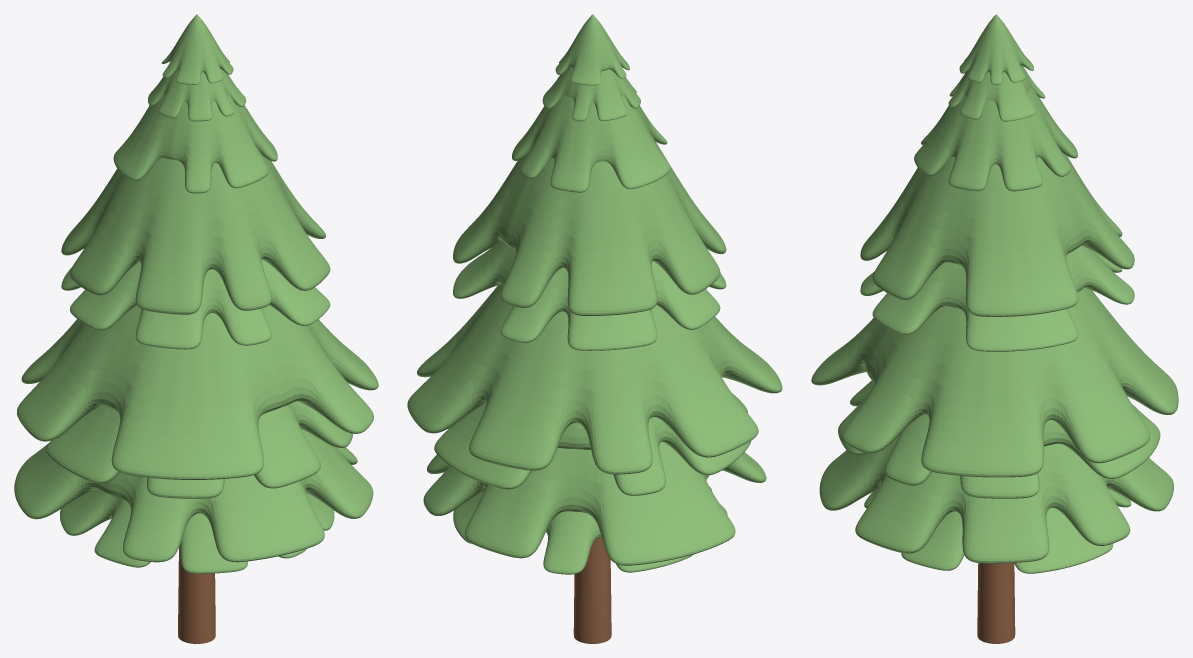
The model's file is sprucebig.fbx.
3 views of the same model, side by side, from view 1: azimuth 30°, elevation 25°; view 2: azimuth 150°, elevation 25°; view 3: azimuth 270°, elevation 25° (orthographic).
Parts seen in each view (by area): view 1: Spruce; view 2: Spruce; view 3: Spruce.
Boxes of the visible parts, x1,y1,x2,y2 form: Spruce: [14, 14, 378, 643]; Spruce: [407, 14, 782, 643]; Spruce: [811, 14, 1178, 643].
Bounding box in the file's own units: 3531 × 6500 × 3478.
